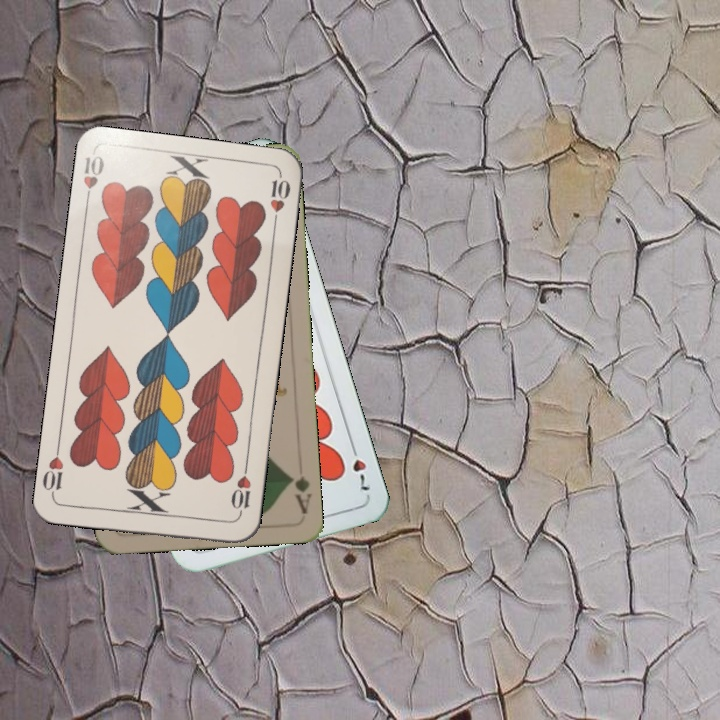GA: (284, 470, 313, 517)
H10: (79, 151, 107, 209), (227, 461, 254, 520)
H7: (346, 439, 373, 496)
